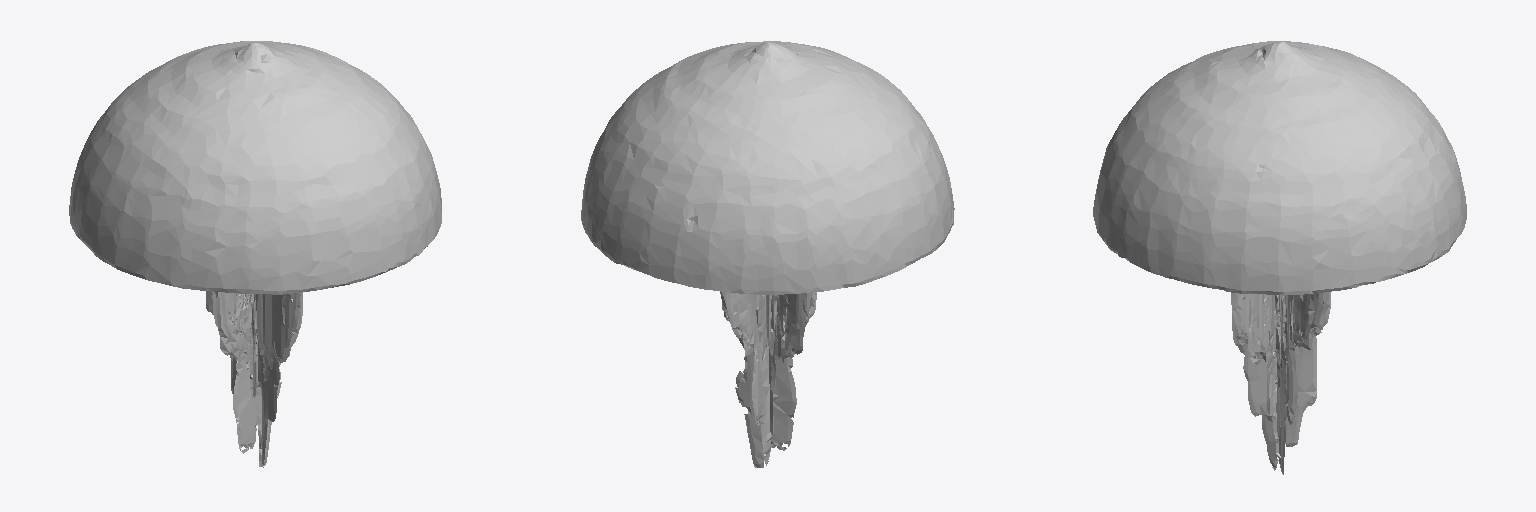
The model's file is GranCaridad.obj.
The picture shows the model from 3 angles: view 1: azimuth 30°, elevation 25°; view 2: azimuth 150°, elevation 25°; view 3: azimuth 270°, elevation 25°; orthographic projection.
Visible parts, largest first — view 1: Mesh_0; view 2: Mesh_0; view 3: Mesh_0.
Part boxes in pixels (left/top/right/bottom): Mesh_0: left=69, top=41, right=441, bottom=467; Mesh_0: left=581, top=41, right=954, bottom=467; Mesh_0: left=1093, top=41, right=1466, bottom=474.
Bounding box in the file's own units: 1.63 × 2.05 × 1.63.